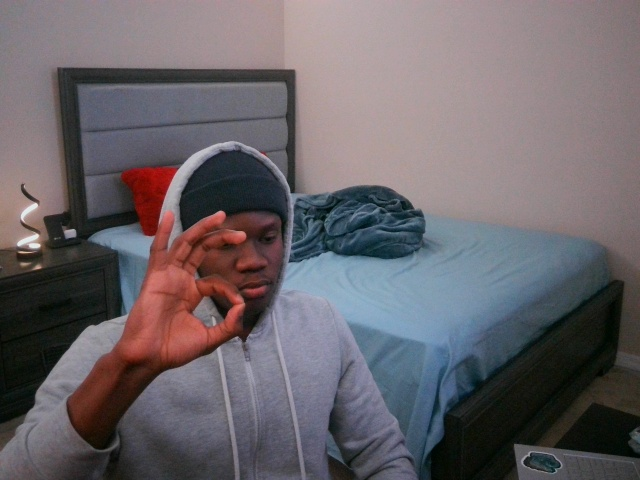OK: (117, 208, 247, 372)
